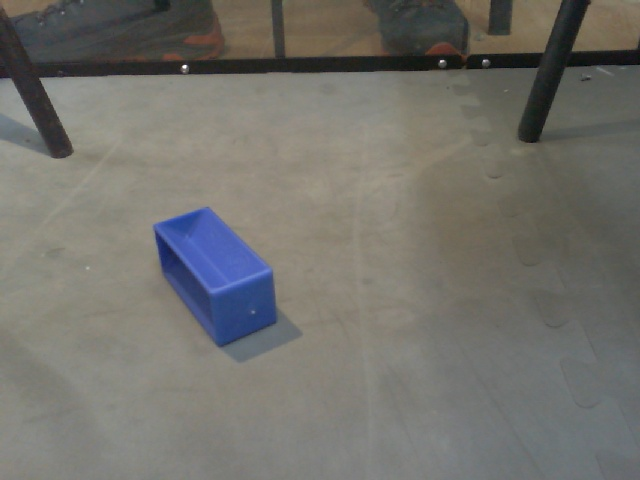BlueSample: (147, 203, 282, 348)
